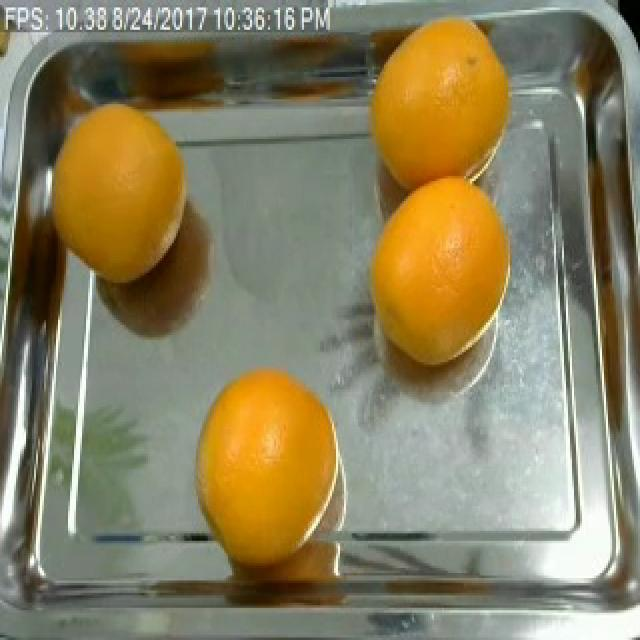Fruit: (354, 0, 530, 216), (32, 84, 200, 298), (182, 352, 348, 556)
